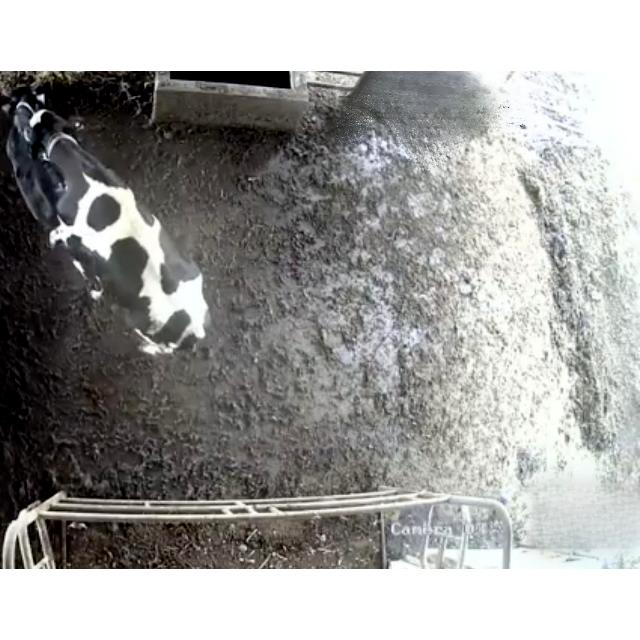ride: (22, 110, 222, 368)
